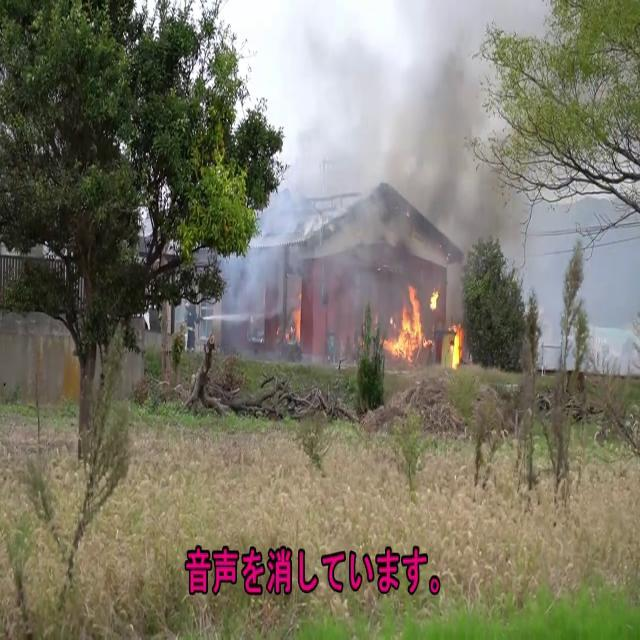Fire: (383, 278, 428, 360), (444, 316, 466, 371)
Smoke: (230, 9, 502, 340)
